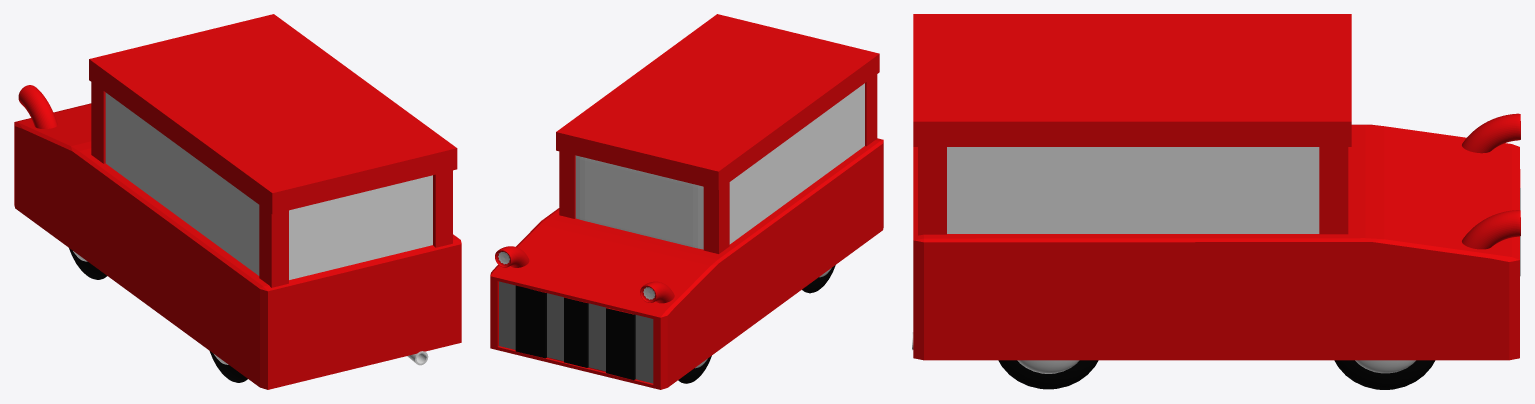
File: машинаfbx.fbx
3 views of the same model, side by side, from view 1: azimuth 30°, elevation 25°; view 2: azimuth 150°, elevation 25°; view 3: azimuth 270°, elevation 25° (orthographic). The views are drawn at different scales.
Visible parts, largest first — view 1: Cube, Cube.002, Cube.001, Cube.005, Cube.006, Cube.003, Torus.001, Sphere.002, Sphere.001; view 2: Cube, Cube.002, Cube.001, Cube.003, Cube.004, Cube.005, Torus.001, Torus.002; view 3: Cube, Cube.002, Cube.001, Cube.004, Cube.006, Sphere.003, Sphere, Torus.002, Torus.001, Sphere.006, Sphere.007.
Part boxes in pixels (x1,y1,x2,y2): Cube: (14, 103, 461, 389); Cube.002: (89, 14, 457, 214); Cube.001: (105, 92, 432, 279); Cube.005: (259, 205, 288, 287); Cube.006: (433, 170, 452, 247); Cube.003: (91, 82, 105, 163); Torus.001: (18, 85, 57, 128); Sphere.002: (69, 248, 106, 279); Sphere.001: (209, 351, 247, 382); Cube: (490, 138, 883, 389); Cube.002: (556, 14, 879, 190); Cube.001: (575, 83, 864, 249); Cube.003: (703, 182, 729, 253); Cube.004: (559, 151, 575, 218); Cube.005: (865, 74, 877, 146); Torus.001: (640, 281, 674, 303); Torus.002: (495, 246, 529, 267); Cube: (913, 124, 1520, 360); Cube.002: (913, 14, 1351, 146); Cube.001: (947, 147, 1319, 233); Cube.004: (1319, 147, 1348, 234); Cube.006: (918, 147, 946, 235); Sphere.003: (1334, 360, 1435, 389); Sphere: (998, 360, 1098, 389); Torus.002: (1462, 210, 1520, 249); Torus.001: (1462, 113, 1520, 153); Sphere.006: (1017, 360, 1079, 373); Sphere.007: (1355, 360, 1415, 373).
Size of the model in its own units: 494 by 543 by 1084.
